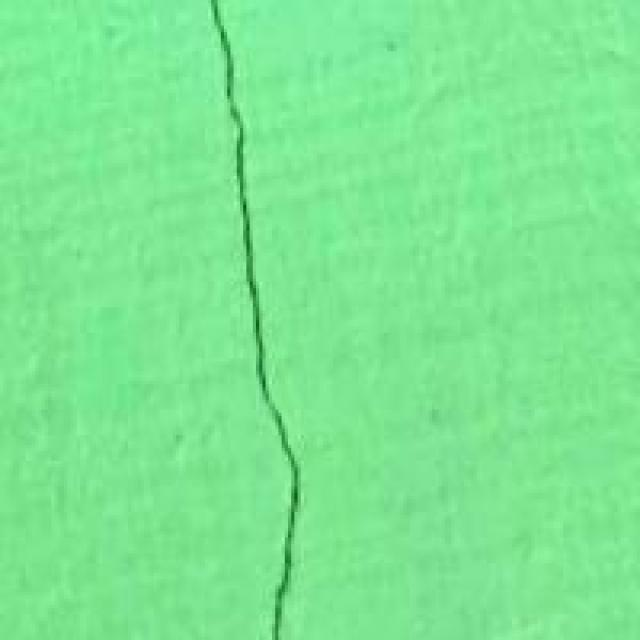Crack: (166, 0, 348, 637)
